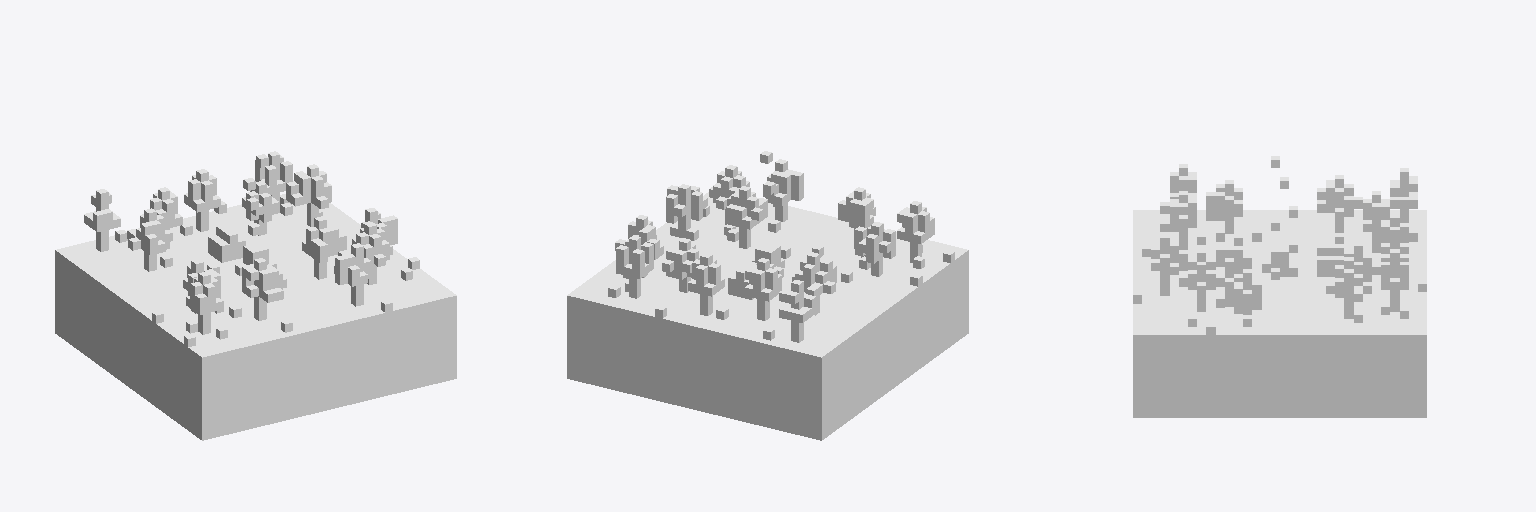
File: Overworld_Land_08.obj
3 views of the same model, side by side, from view 1: azimuth 30°, elevation 25°; view 2: azimuth 150°, elevation 25°; view 3: azimuth 270°, elevation 25° (orthographic).
Parts seen in each view (by area): view 1: object 1; view 2: object 1; view 3: object 1.
Part boxes in pixels (x1,y1,x2,y2): object 1: (55, 151, 456, 440); object 1: (567, 151, 968, 440); object 1: (1133, 156, 1426, 417).
Bounding box in the file's own units: 3.2 × 2.4 × 3.2.